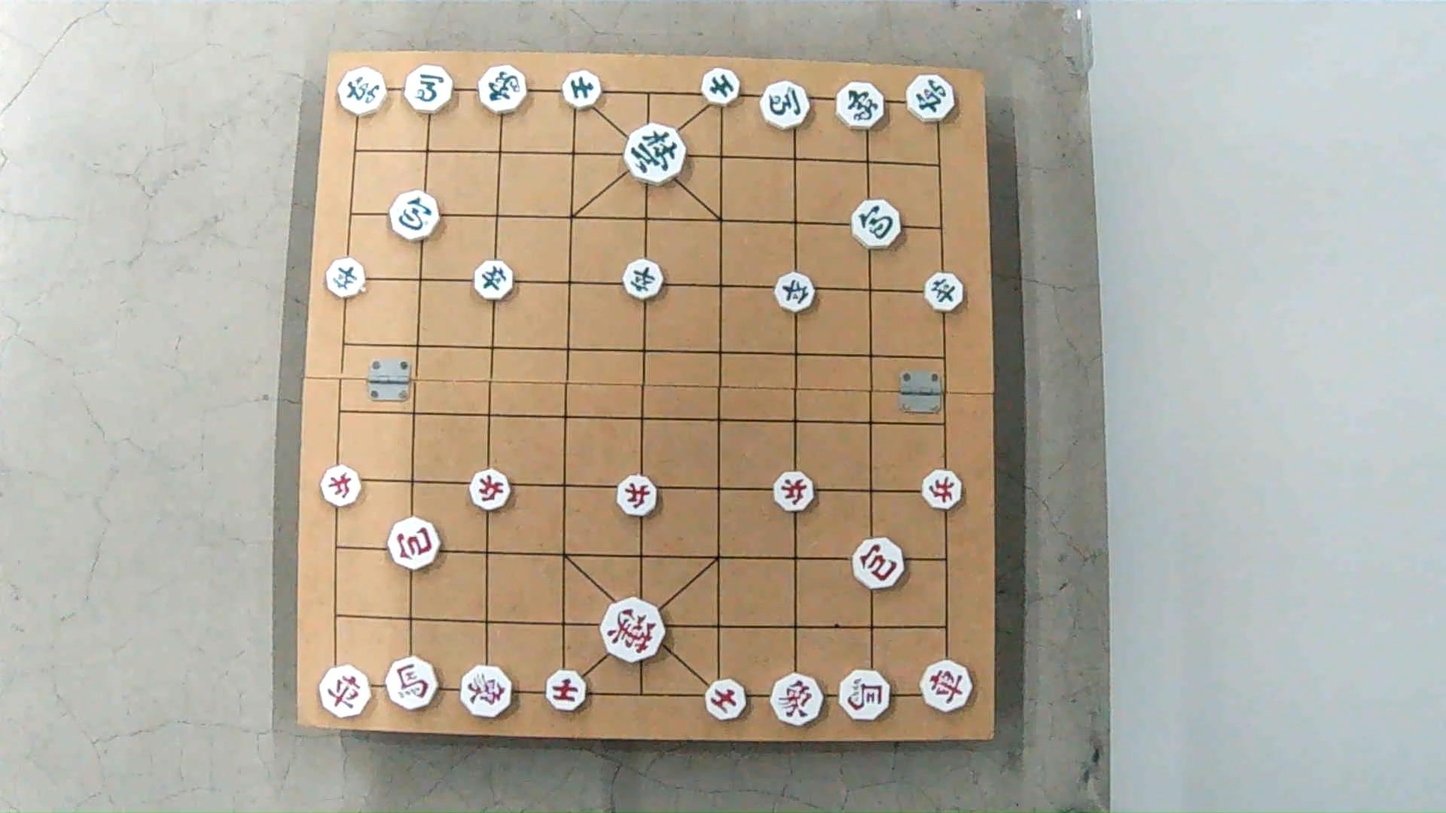cha_green: (339, 68, 389, 115), (903, 75, 954, 121)
cha_red: (917, 659, 974, 712), (322, 668, 373, 719)
jol_green: (623, 260, 665, 299), (473, 262, 515, 300), (774, 273, 816, 311), (926, 273, 967, 311), (324, 260, 365, 297)
jol_red: (618, 477, 660, 517), (773, 473, 816, 512), (319, 468, 361, 507), (923, 471, 965, 510), (469, 472, 511, 510)
ma_green: (761, 82, 814, 128), (401, 67, 451, 112)
ma_red: (838, 668, 892, 723), (385, 657, 438, 708)
po_green: (389, 190, 444, 243), (853, 200, 902, 248)
po_red: (851, 540, 904, 589), (389, 519, 441, 568)
sa_green: (563, 72, 605, 108), (700, 70, 740, 105)
sa_red: (706, 678, 746, 718), (544, 671, 586, 709)
sang_green: (836, 80, 886, 132), (476, 67, 527, 114)
sang_red: (459, 663, 513, 715), (770, 674, 821, 729)
wang_green: (624, 125, 687, 181)
wang_red: (602, 601, 668, 661)
